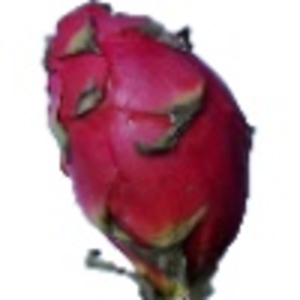pitaia: (42, 1, 259, 300)
